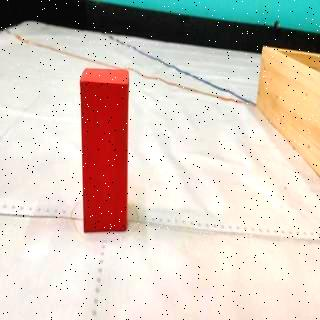redbox: (81, 68, 129, 234)
